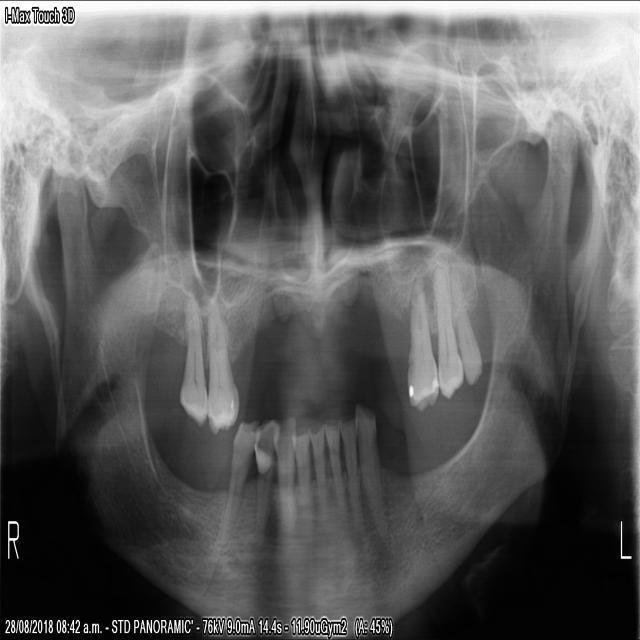LCD: (352, 399, 387, 543)
LID: (337, 409, 363, 541), (322, 415, 348, 531)
LMU: (404, 275, 439, 414), (430, 264, 465, 402), (450, 260, 482, 389)
RCD: (270, 411, 294, 565)
RID: (305, 419, 328, 535), (293, 422, 313, 549)
RMU: (201, 288, 239, 439), (176, 289, 205, 429)
RPMD: (213, 414, 255, 552), (248, 414, 273, 549)
